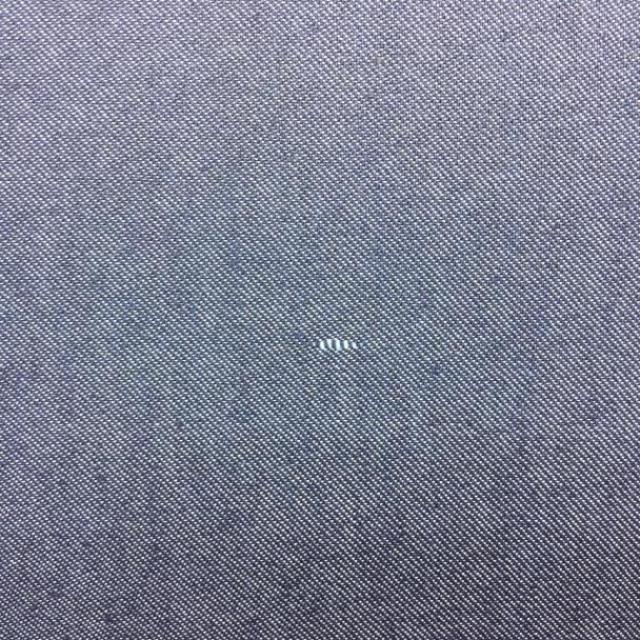Knot: (319, 338, 362, 352)
